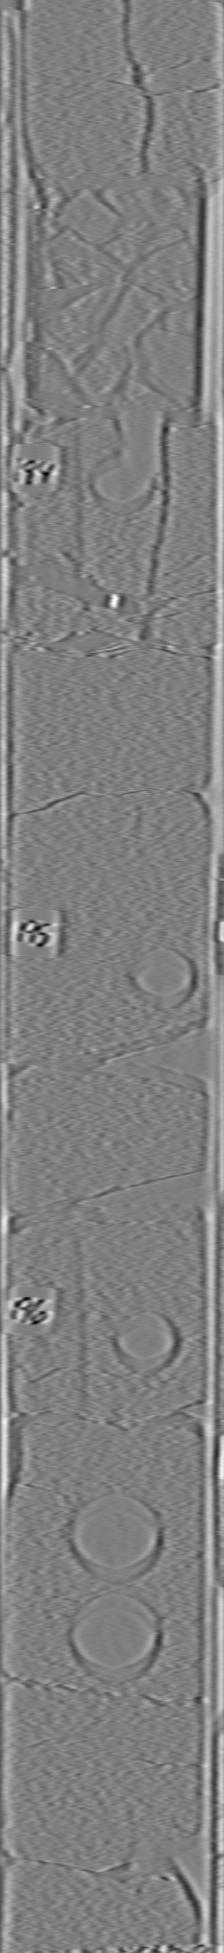hplug: (105, 1305, 185, 1383), (121, 939, 203, 1013), (87, 448, 157, 526)
scal: (65, 1487, 169, 1589), (63, 1589, 163, 1689)
vplug: (1, 1224, 93, 1425), (12, 418, 93, 579)
